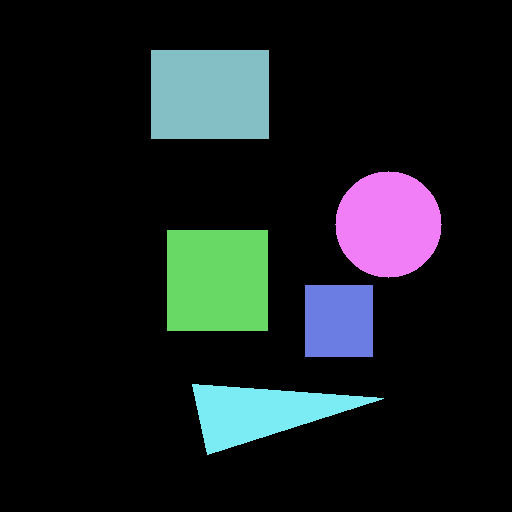circle: (335, 171, 441, 277)
rectangle: (151, 50, 268, 138)
square: (167, 230, 267, 330), (305, 285, 372, 356)
triangle: (192, 384, 383, 454)
